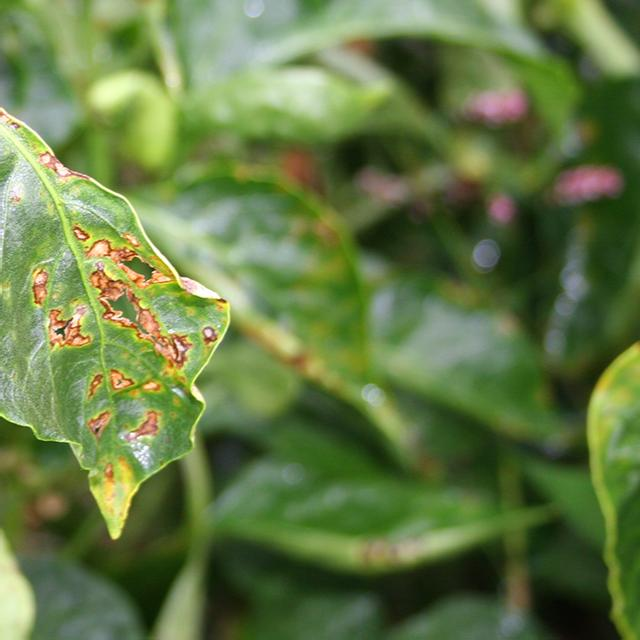Tomato leaf bacterial spot: (0, 72, 252, 545), (568, 281, 640, 640)
